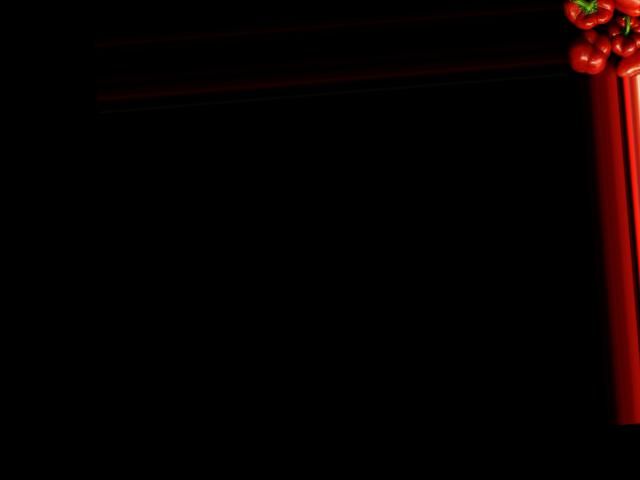bell_pepper: (613, 51, 640, 77)
